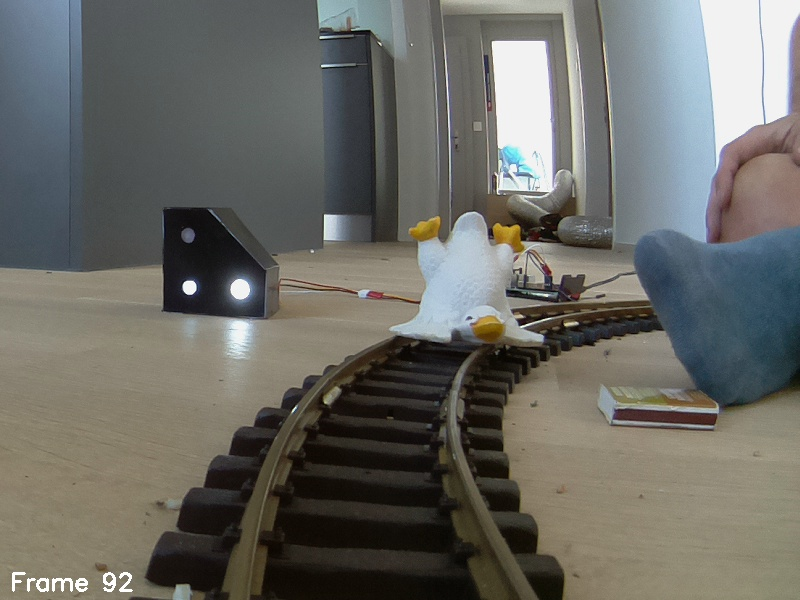Halt: (162, 207, 279, 321)
